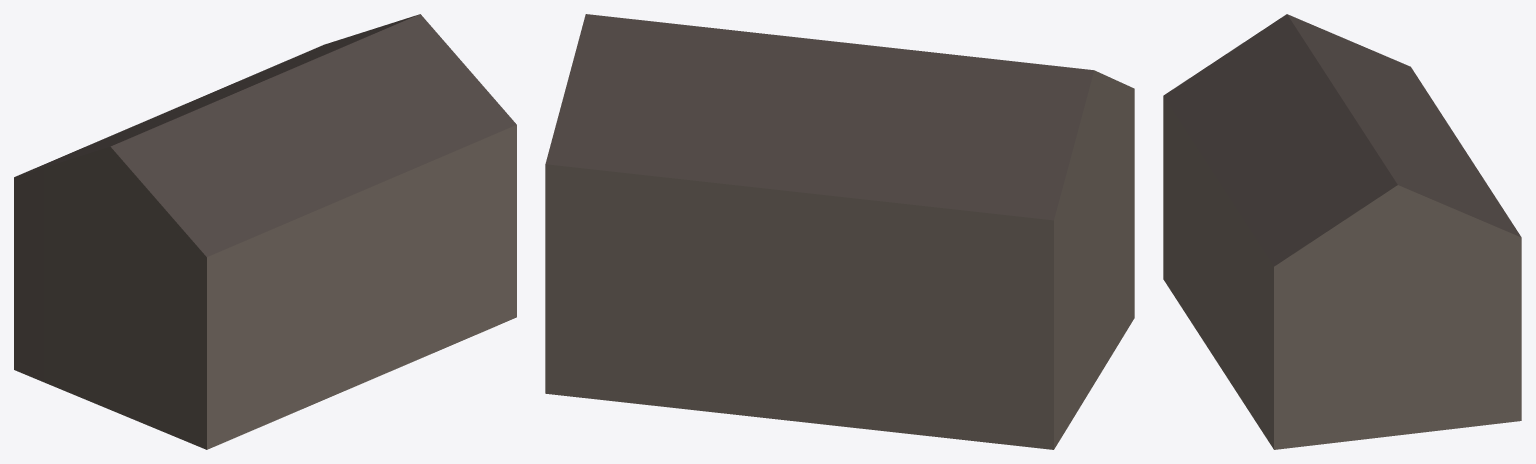
3 renders of one model, left to right at view 1: azimuth 30°, elevation 25°; view 2: azimuth 150°, elevation 25°; view 3: azimuth 270°, elevation 25°, orthographic. The views are drawn at different scales.
Parts seen in each view (by area): view 1: HP-w1198840841; view 2: HP-w1198840841; view 3: HP-w1198840841.
Part boxes in pixels (x1,y1,x2,y2): HP-w1198840841: (14,14,516,449); HP-w1198840841: (545,14,1134,449); HP-w1198840841: (1163,14,1521,449).
Size of the model in its own units: 14.04 by 8.2 by 10.64.
